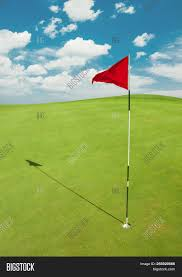Flag: (90, 54, 131, 90)
